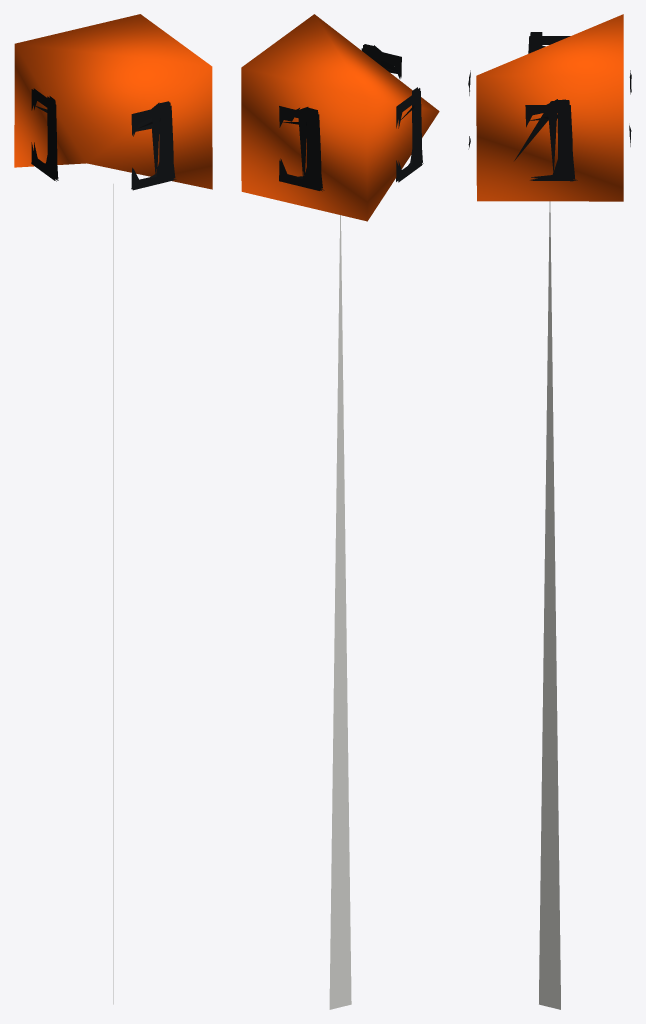
File: down_marker_lod2.glb
3 renders of one model, left to right at view 1: azimuth 30°, elevation 25°; view 2: azimuth 150°, elevation 25°; view 3: azimuth 270°, elevation 25°, orthographic.
Parts seen in each view (by area): view 1: down_marker__prop_orange, down_3__prop_black, down_4__prop_black, down_2__prop_black, down_marker__prop_white, down_1__prop_black; view 2: down_marker__prop_orange, down_marker__prop_white, down_3__prop_black, down_2__prop_black, down_4__prop_black, down_1__prop_black; view 3: down_marker__prop_orange, down_marker__prop_white, down_3__prop_black, down_4__prop_black, down_2__prop_black, down_1__prop_black.
Boxes of the visible parts, x1,y1,x2,y2 form: down_marker__prop_orange: (14, 14, 212, 189); down_3__prop_black: (31, 97, 173, 190); down_4__prop_black: (45, 96, 175, 179); down_2__prop_black: (31, 88, 171, 178); down_marker__prop_white: (113, 184, 113, 1004); down_1__prop_black: (34, 102, 176, 188); down_marker__prop_orange: (241, 14, 439, 221); down_marker__prop_white: (329, 215, 351, 1009); down_3__prop_black: (279, 48, 421, 190); down_2__prop_black: (279, 48, 420, 179); down_4__prop_black: (301, 44, 422, 189); down_1__prop_black: (280, 45, 423, 191); down_marker__prop_orange: (476, 14, 623, 201); down_marker__prop_white: (539, 201, 560, 1009); down_3__prop_black: (469, 37, 572, 181); down_4__prop_black: (468, 32, 574, 179); down_2__prop_black: (468, 36, 631, 149); down_1__prop_black: (526, 70, 631, 180).
Size of the model in its own units: 0.374 by 2.43 by 0.374.
